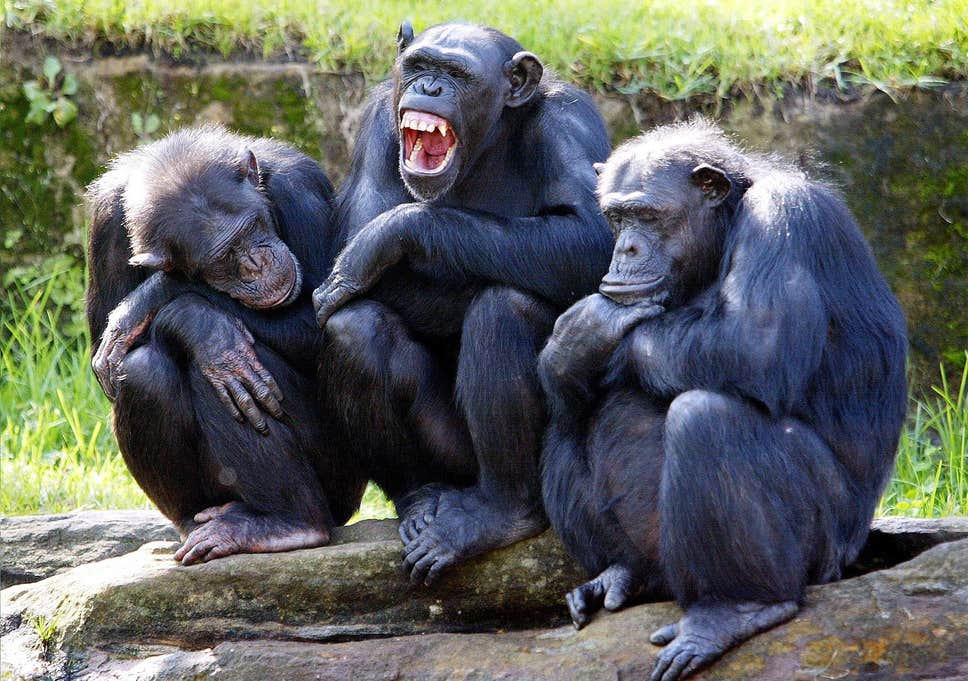Chimpanzee: (560, 116, 905, 614), (314, 24, 618, 534), (89, 112, 344, 524)
